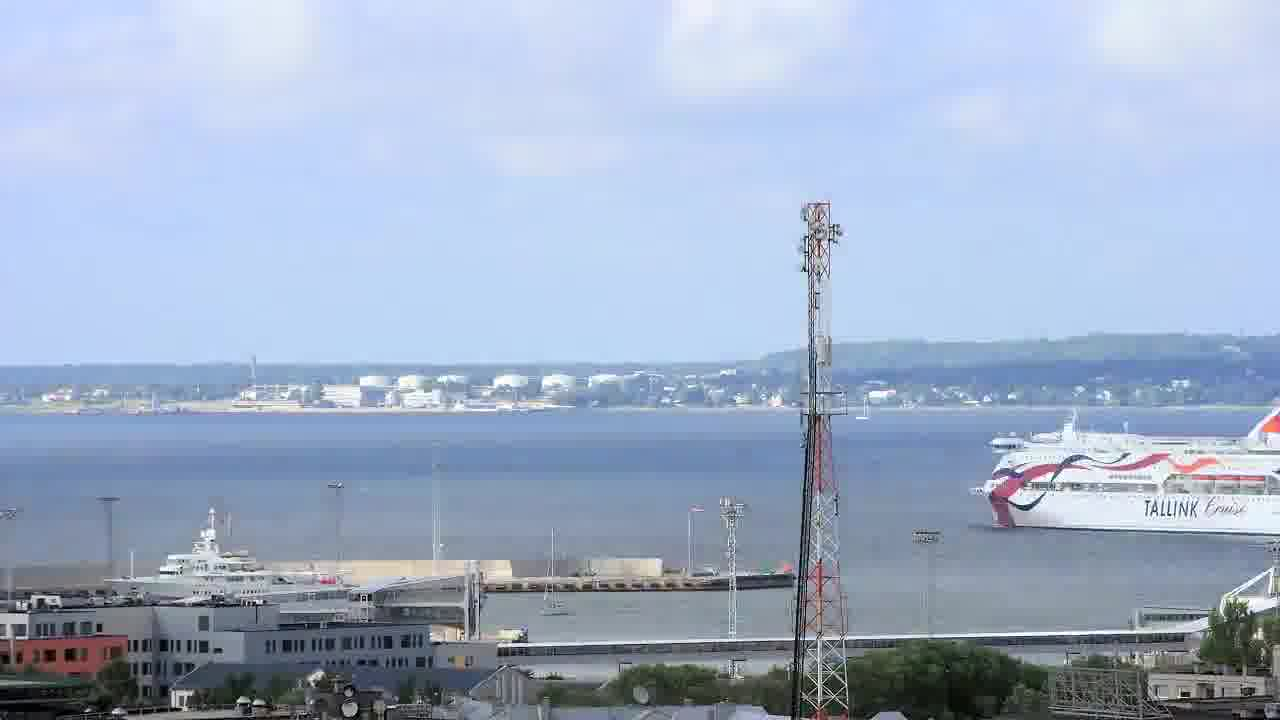type-0: (523, 537, 580, 615)
type-3: (959, 412, 1280, 555), (96, 508, 381, 605)
